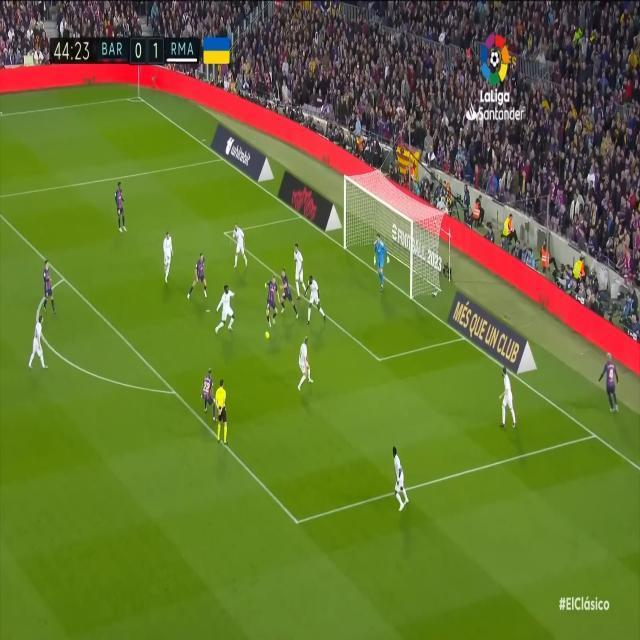ball: (257, 316, 275, 350)
goalkeeper: (366, 219, 393, 304)
player: (35, 241, 77, 360), (377, 435, 410, 532), (26, 297, 63, 380), (495, 350, 527, 445), (289, 330, 324, 399), (603, 342, 630, 425), (187, 247, 219, 316), (223, 223, 257, 283), (153, 231, 181, 294), (288, 225, 305, 324), (113, 178, 137, 243), (217, 273, 237, 348), (201, 302, 213, 423), (305, 259, 326, 328), (263, 261, 278, 322), (283, 263, 295, 321)
